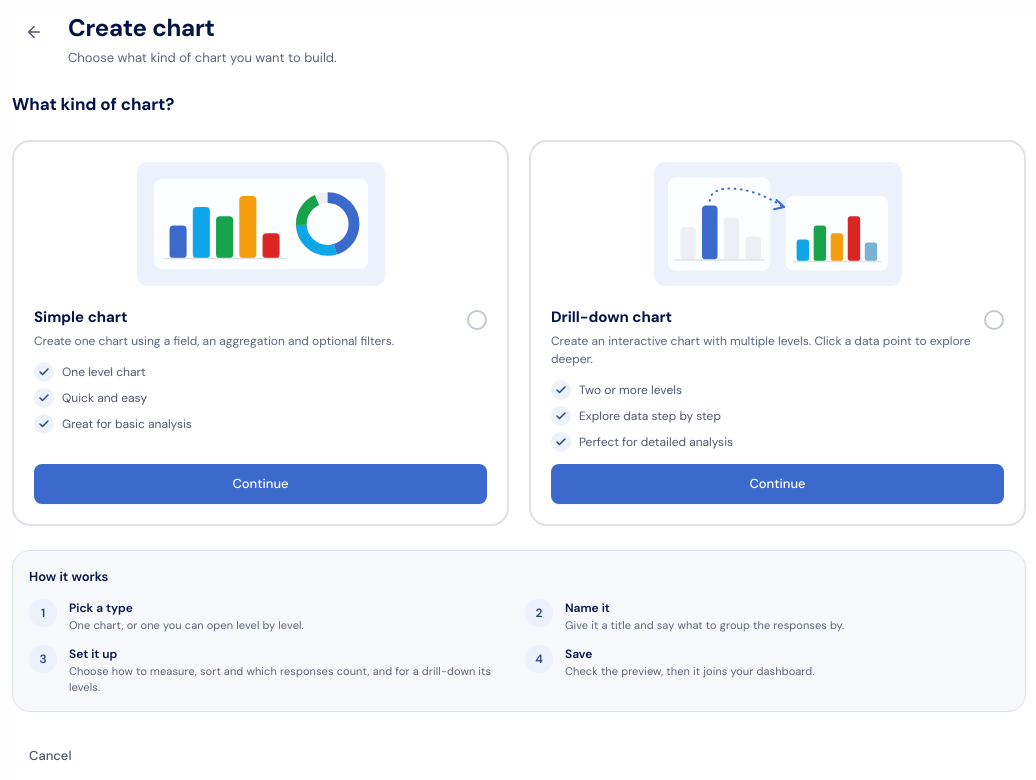
Test: a drill-down chart › step 2 names the chart and sets what is counted; it has no "Group by field" and shows a placeholder where the chart will be
expect the radio button labelled "Drill-down chart" is shown: met, box x1=529 y1=140 x2=1026 y2=526
Step 1. Click the button "Continue" below "Perfect for detailed analysis" → (778, 484), box x1=551 y1=464 x2=1004 y2=504
(page scrolled)
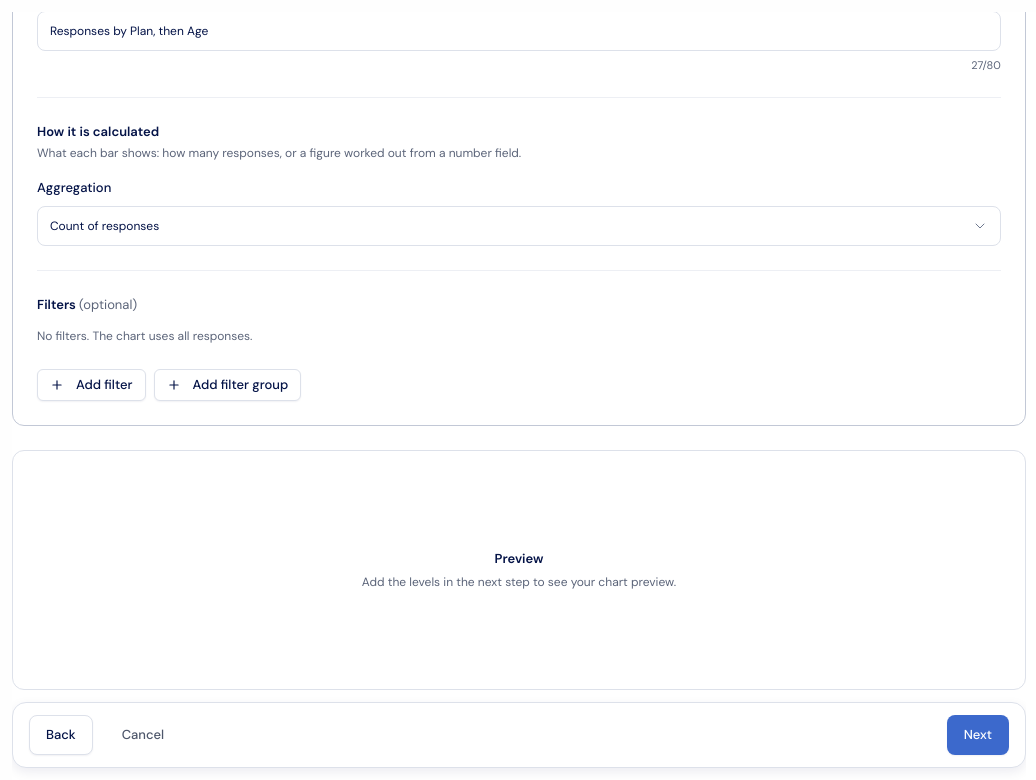
expect the field labelled "Chart title" holds "Responses by Plan, then Age": met, box x1=37 y1=11 x2=1001 y2=51
expect the dropdown labelled "Aggregation" is shown: met, box x1=37 y1=206 x2=1001 y2=246
expect the heading "Filters (optional)" is shown: met, box x1=37 y1=295 x2=137 y2=315
